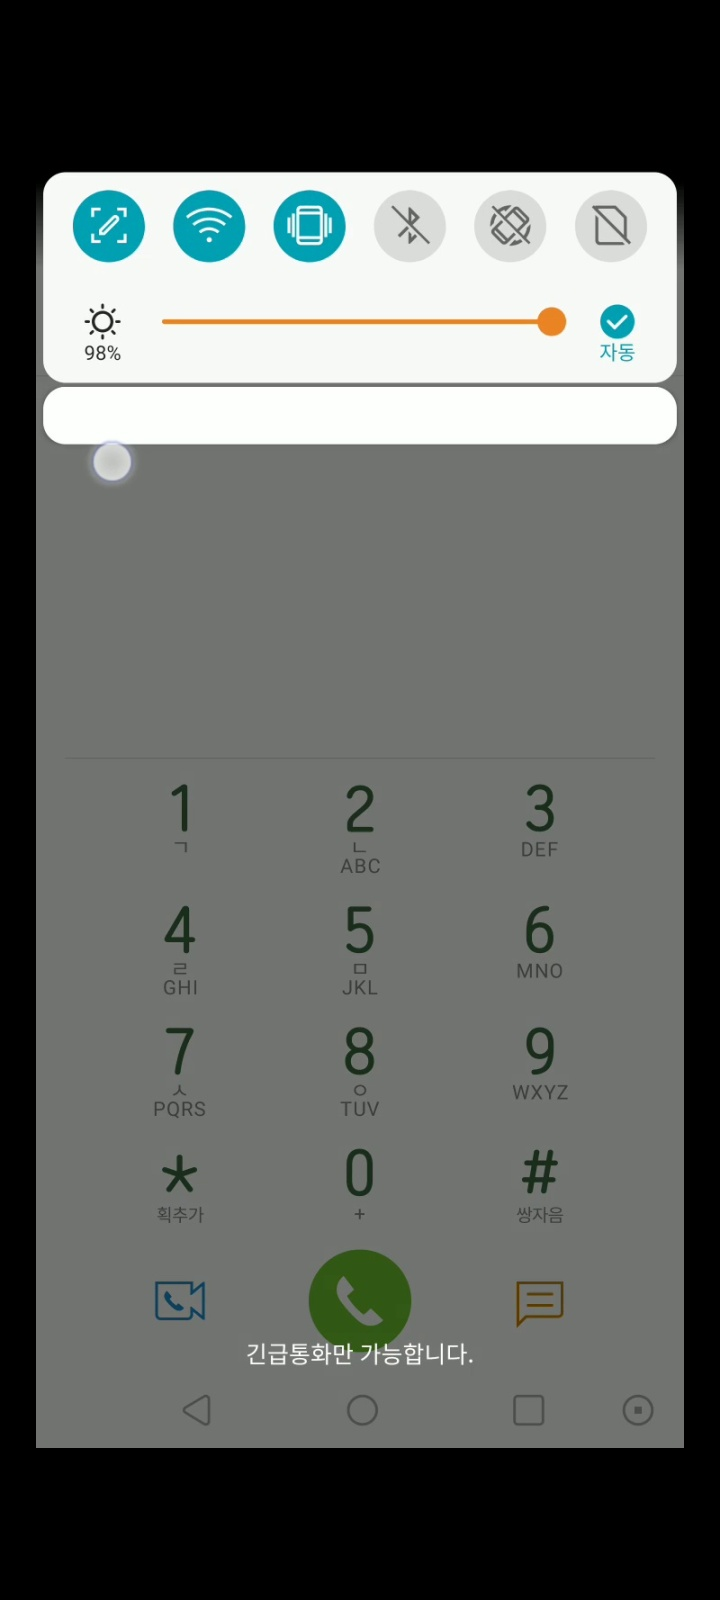Cursor: (90, 440, 135, 485)
